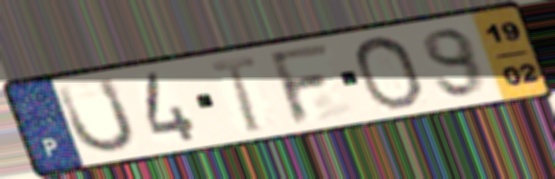4: (144, 69, 198, 143)
9: (422, 25, 490, 98)
F: (265, 40, 335, 128)
O: (350, 32, 427, 112)
T: (205, 53, 263, 136)
U: (53, 75, 139, 156)
